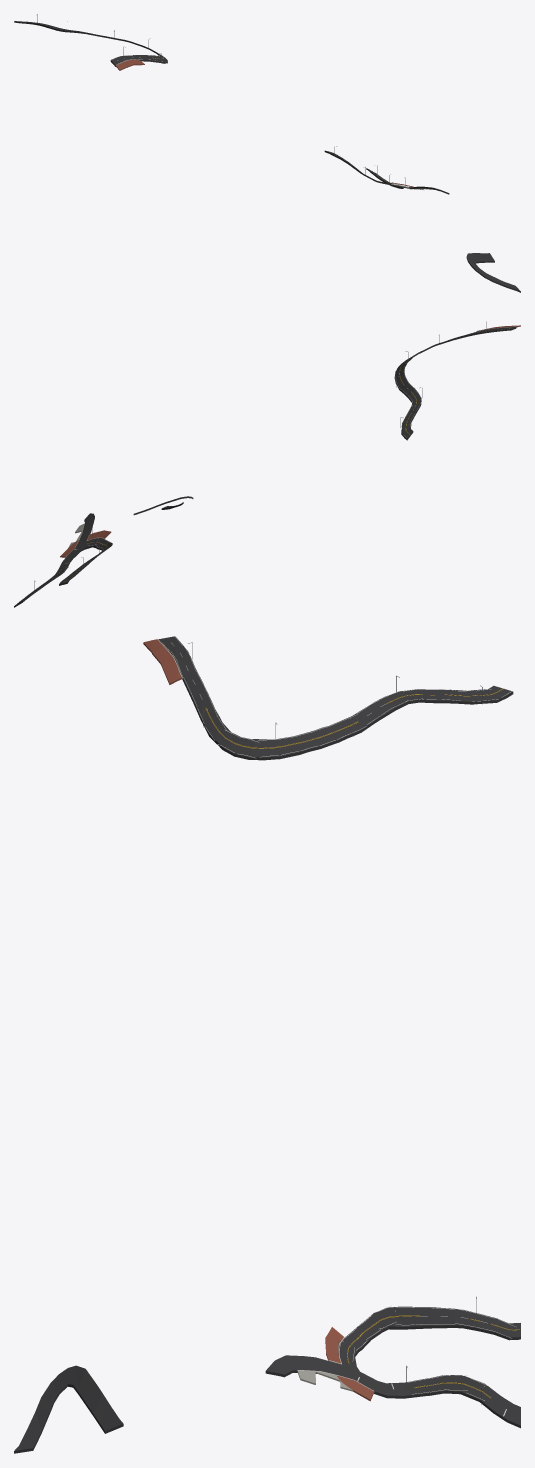
The picture shows the model from 3 angles, top to bottom: view 1: azimuth 30°, elevation 25°; view 2: azimuth 150°, elevation 25°; view 3: azimuth 270°, elevation 25°; orthographic projection. The views are drawn at different scales.
Bounding box in the file's own units: 294 × 226 × 202.
